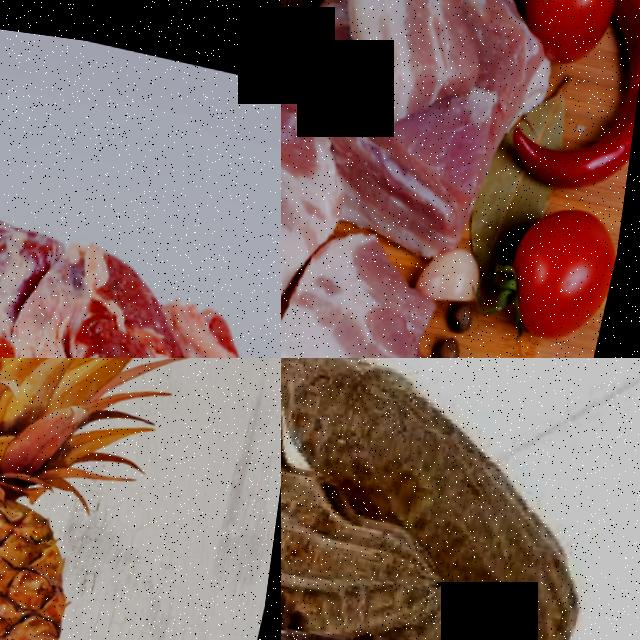chilli: (581, 0, 640, 183)
pineapple: (0, 383, 125, 640)
pork belly: (0, 166, 281, 358), (321, 54, 504, 243), (281, 213, 454, 358), (331, 0, 508, 117), (281, 72, 357, 296)
tomato: (505, 177, 631, 332), (513, 0, 626, 41)
